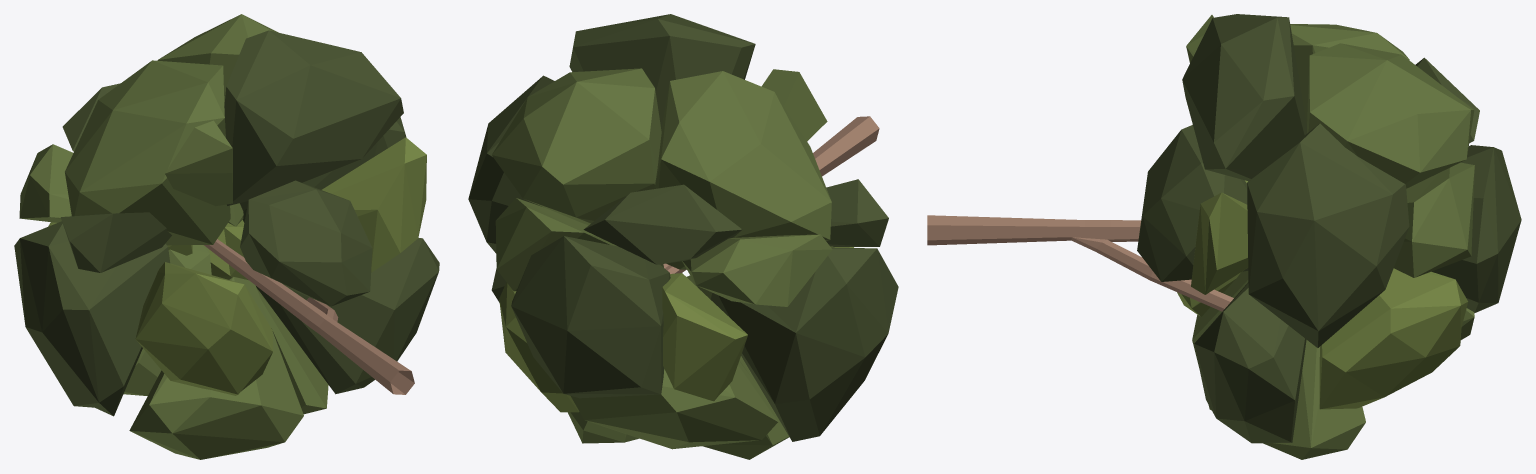
File: Tree Type0 06.glb
3 views of the same model, side by side, from view 1: azimuth 30°, elevation 25°; view 2: azimuth 150°, elevation 25°; view 3: azimuth 270°, elevation 25° (orthographic). The views are drawn at different scales.
Parts seen in each view (by area): view 1: Tree Type0 06_mesh; view 2: Tree Type0 06_mesh; view 3: Tree Type0 06_mesh.
Boxes of the visible parts, x1,y1,x2,y2 form: Tree Type0 06_mesh: (14,14,439,459); Tree Type0 06_mesh: (468,14,898,459); Tree Type0 06_mesh: (927,14,1521,459).
Bounding box in the file's own units: 2.52 × 2.54 × 3.26.
Materials: 1 (1 with a texture image).
